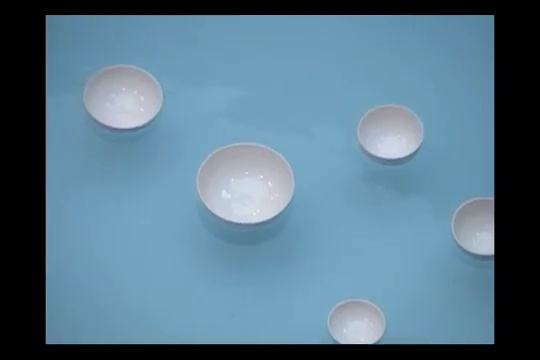bowl: (196, 142, 295, 229), (83, 65, 162, 134), (357, 103, 424, 166), (451, 197, 493, 261), (327, 299, 385, 343)
